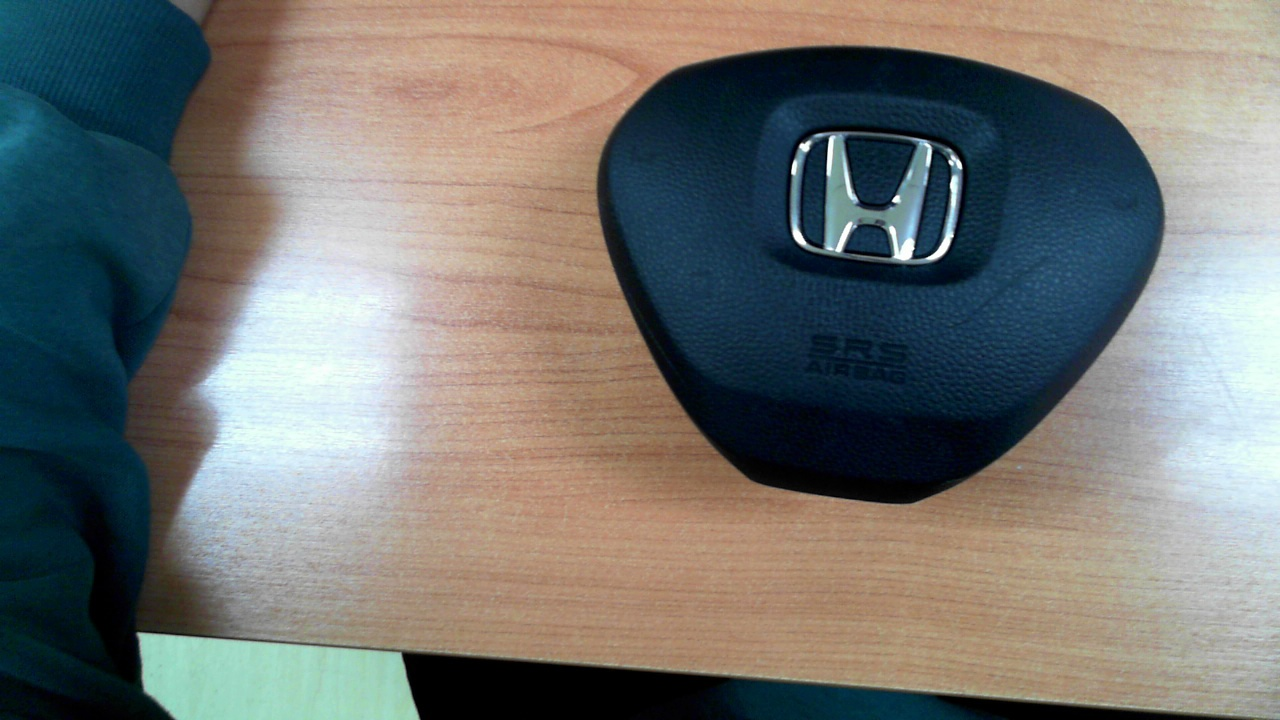Airbag: (597, 45, 1166, 505)
Honda: (789, 130, 964, 265)
